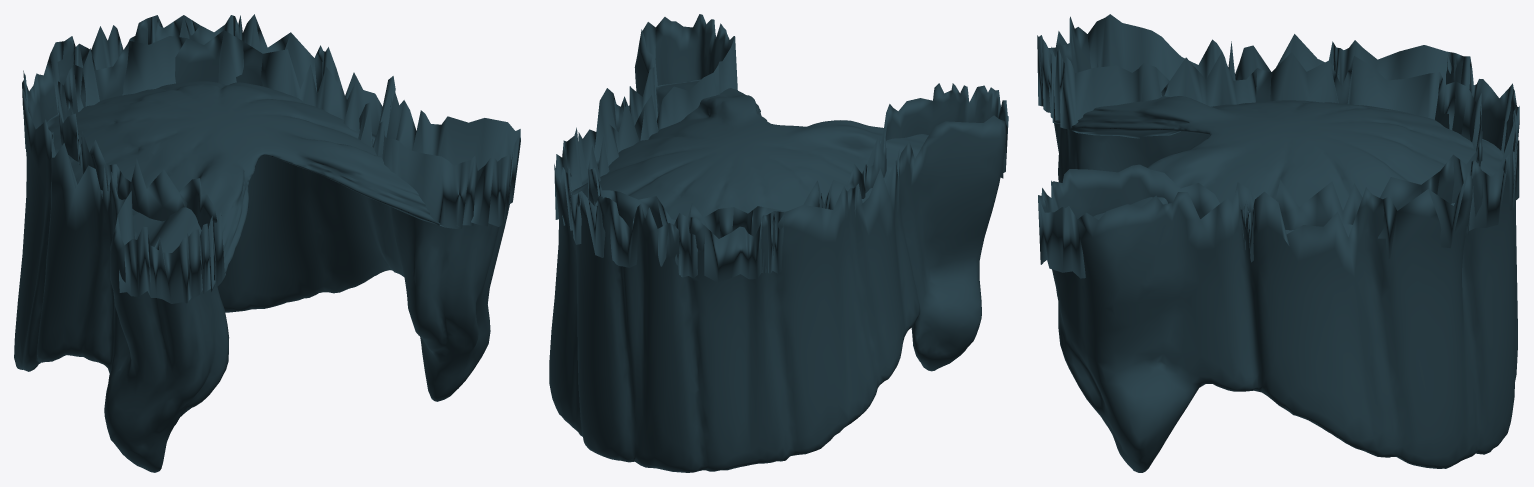
The model's file is grisaldi_hat_fit.glb.
3 views of the same model, side by side, from view 1: azimuth 30°, elevation 25°; view 2: azimuth 150°, elevation 25°; view 3: azimuth 270°, elevation 25° (orthographic). The views are drawn at different scales.
Visible parts, largest first — view 1: midnight_long_waves; view 2: midnight_long_waves; view 3: midnight_long_waves.
Boxes of the visible parts, left/top/right/bottom form: midnight_long_waves: left=14, top=14, right=520, bottom=472; midnight_long_waves: left=549, top=14, right=1008, bottom=472; midnight_long_waves: left=1037, top=14, right=1519, bottom=472.
Bounding box in the file's own units: 0.9064 × 0.6457 × 0.9131.
